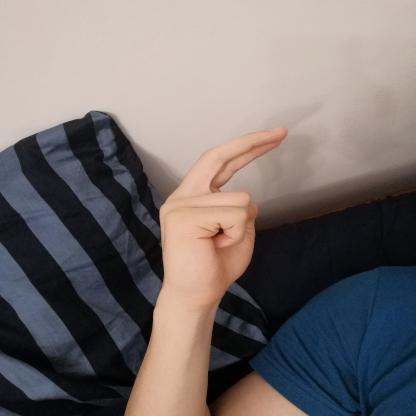ZAY: (148, 119, 297, 305)
